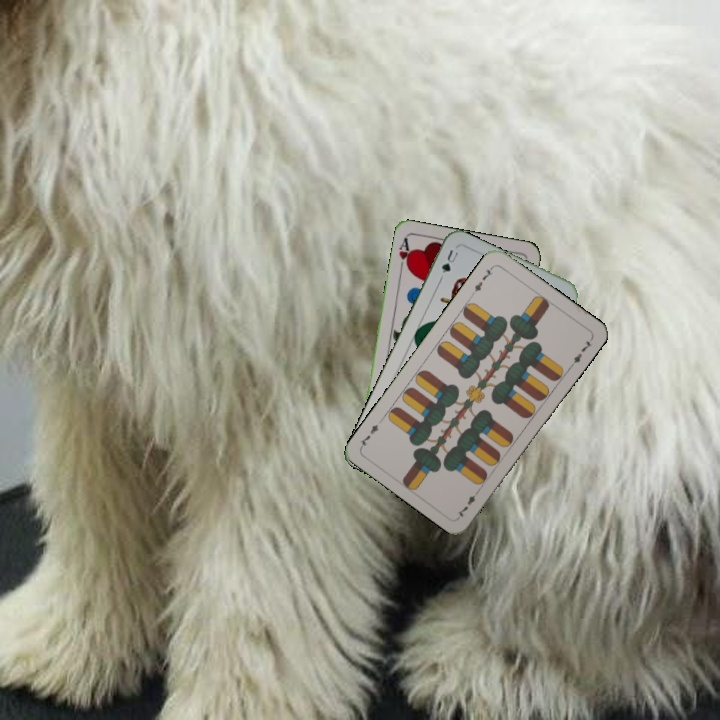E7: (468, 262, 497, 297), (454, 485, 482, 520)
GU: (437, 245, 461, 276)
HA: (395, 234, 414, 275)
